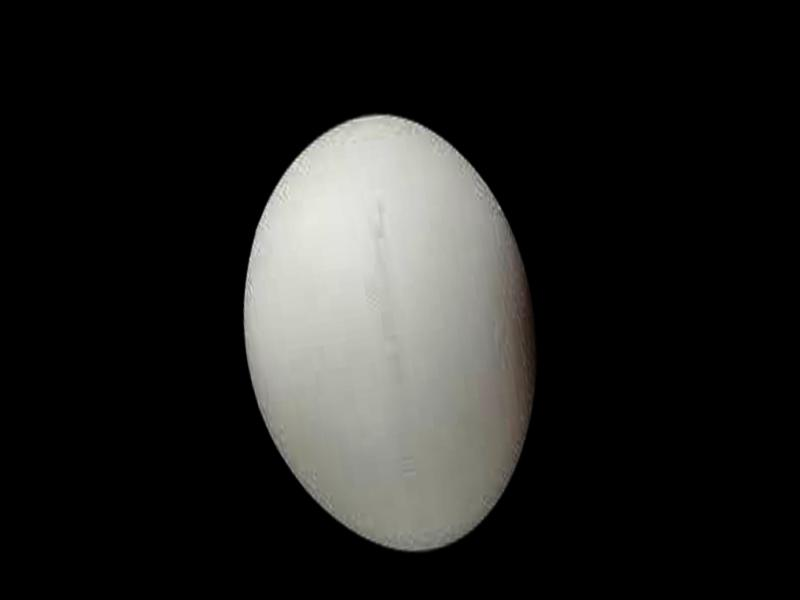Eggs: (216, 93, 565, 570)
